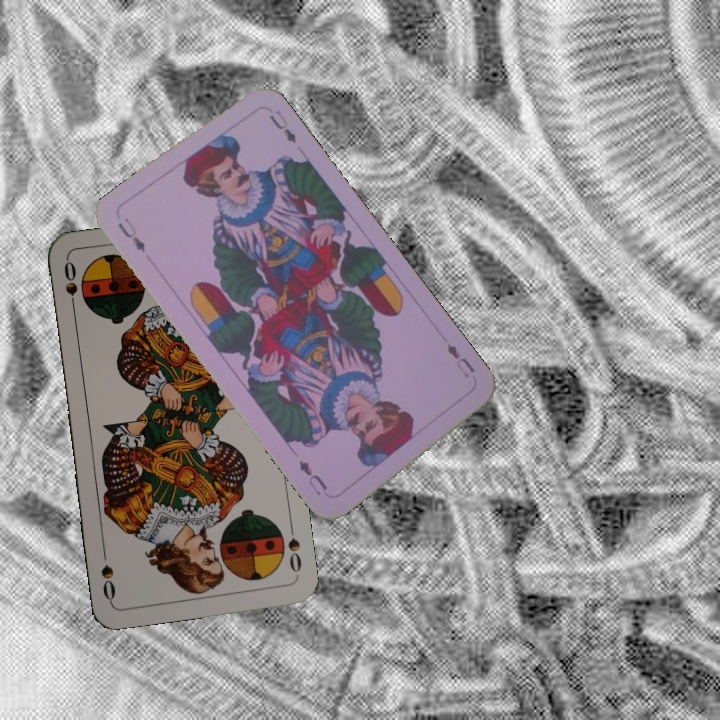EU: (442, 339, 478, 381), (114, 213, 149, 256)
SO: (60, 257, 81, 316), (284, 520, 304, 579)
